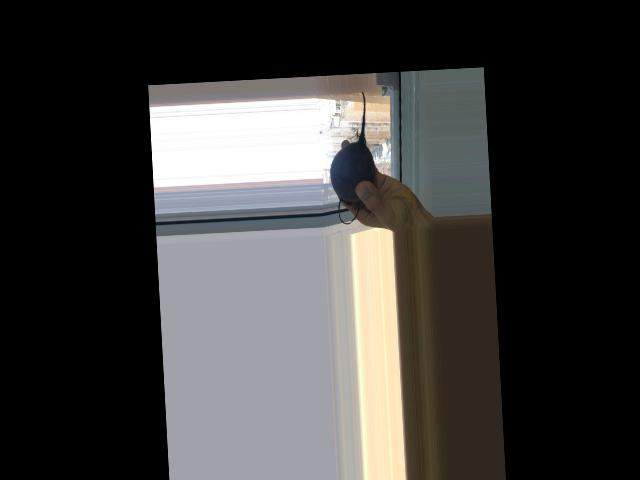beet: (326, 90, 378, 224)
